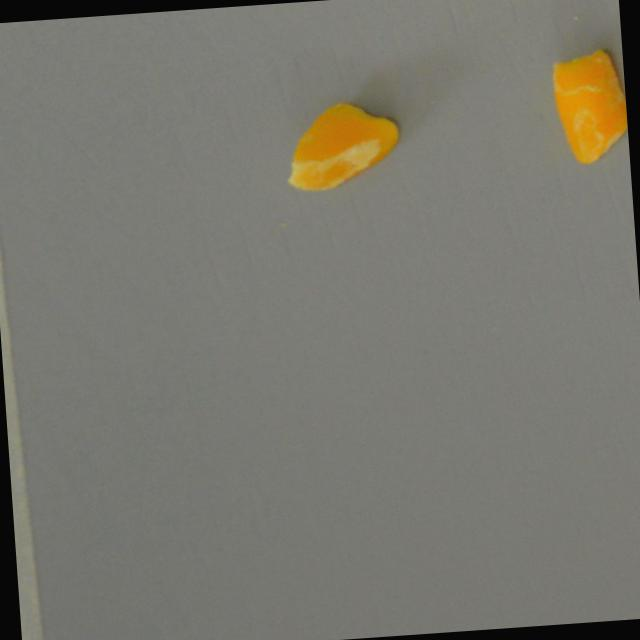dañado: (274, 91, 408, 194), (543, 43, 630, 167)
